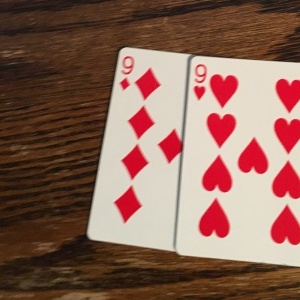card: (82, 45, 187, 255)
